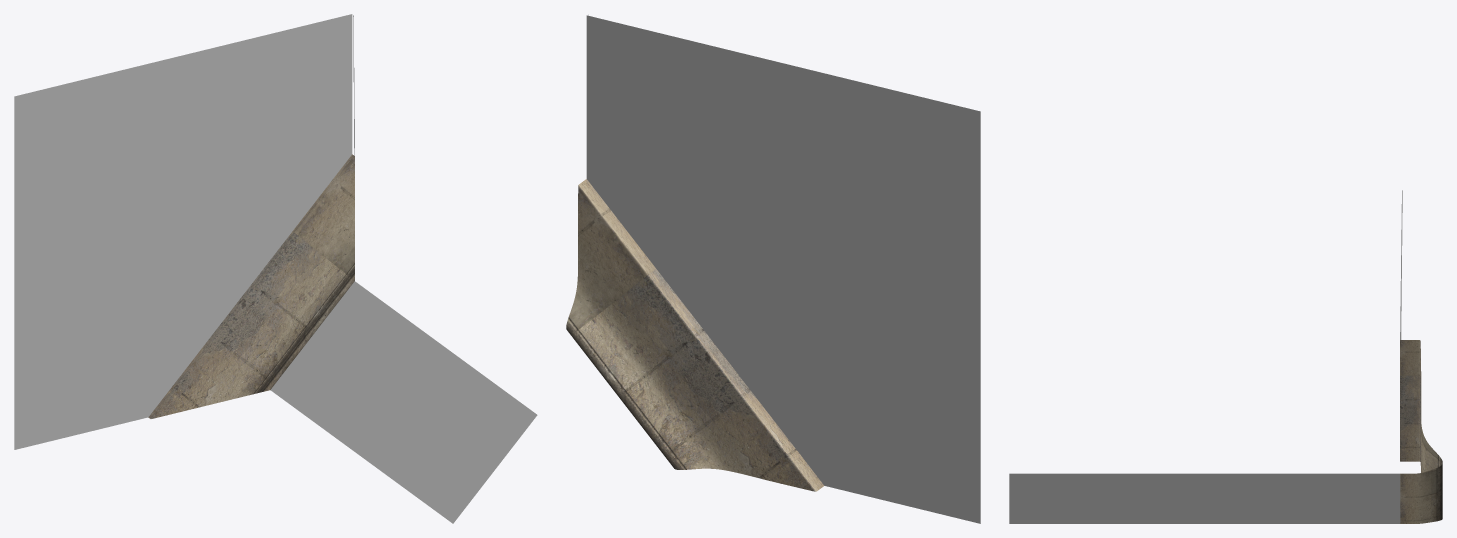
Rendered from inside_bottom_right.DAE.
3 views of the same model, side by side, from view 1: azimuth 30°, elevation 25°; view 2: azimuth 150°, elevation 25°; view 3: azimuth 270°, elevation 25° (orthographic). The views are drawn at different scales.
Parts seen in each view (by area): view 1: Box001; view 2: Box001; view 3: Box001.
Part boxes in pixels (box(x1,y1,x2,y2)): Box001: box(14, 14, 537, 523); Box001: box(566, 14, 980, 523); Box001: box(1009, 190, 1442, 523).
Size of the model in its own units: 39.37 by 40.94 by 39.37.
